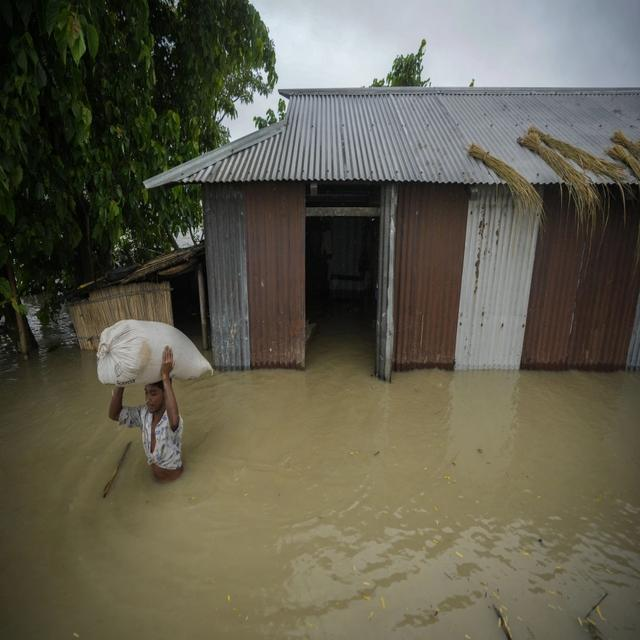Person-RiskLevel3: (93, 341, 202, 482)
